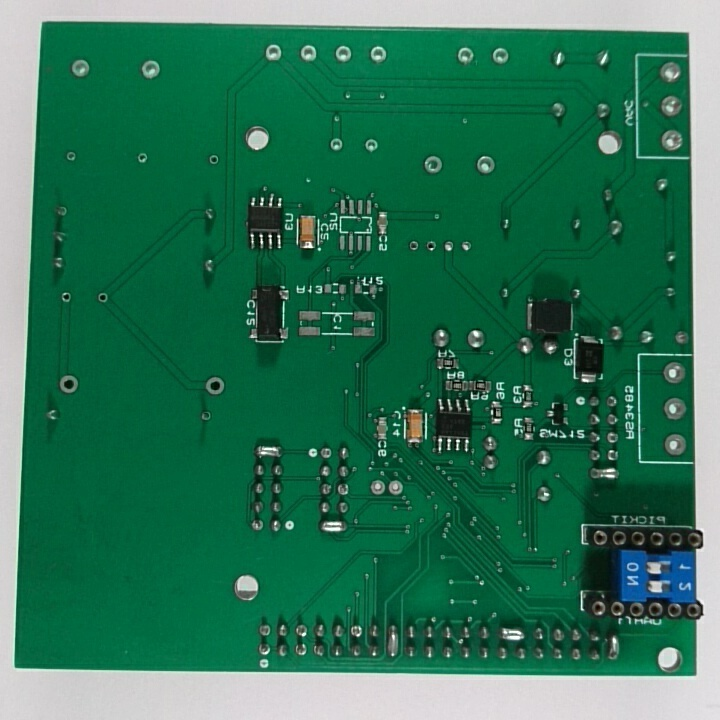F: (661, 392, 691, 425), (661, 430, 691, 458), (657, 128, 687, 155), (656, 59, 684, 86), (660, 358, 688, 385), (656, 95, 685, 120), (472, 151, 499, 177), (56, 372, 82, 397), (136, 57, 164, 80), (201, 374, 226, 398), (420, 154, 445, 177), (366, 43, 390, 66), (489, 43, 512, 67), (68, 54, 90, 79), (454, 45, 477, 68), (387, 478, 408, 501), (299, 41, 319, 65), (368, 475, 388, 499), (262, 43, 284, 64), (333, 43, 354, 64), (672, 327, 691, 347), (326, 135, 347, 153), (246, 516, 265, 535), (363, 135, 381, 155), (334, 481, 352, 499), (134, 150, 152, 167), (196, 409, 215, 425), (256, 640, 272, 659), (293, 639, 308, 659), (64, 148, 79, 167), (348, 622, 363, 641), (317, 445, 334, 461), (605, 429, 622, 445), (56, 201, 70, 219), (96, 289, 111, 305), (60, 289, 72, 307), (208, 152, 220, 167)
P: (385, 621, 402, 661), (586, 465, 623, 483), (606, 628, 623, 666), (317, 519, 350, 537), (497, 624, 528, 643), (254, 443, 285, 460)
